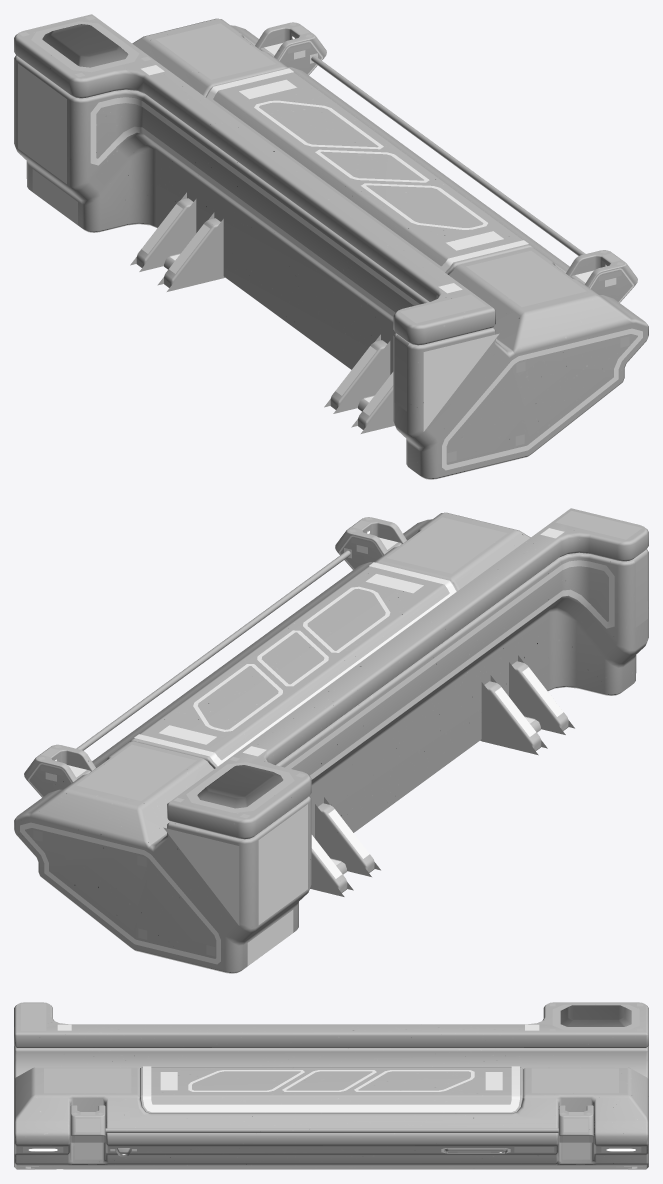
File: SM_RoofConnector_4_Merged.fbx
3 renders of one model, top to bottom at view 1: azimuth 30°, elevation 25°; view 2: azimuth 150°, elevation 25°; view 3: azimuth 270°, elevation 25°, orthographic. The views are drawn at different scales.
Visible parts, largest first — view 1: SM_RoofConnector_4_Merged_LOD0; view 2: SM_RoofConnector_4_Merged_LOD0; view 3: SM_RoofConnector_4_Merged_LOD0.
Part boxes in pixels (box(x1,y1,x2,y2)): SM_RoofConnector_4_Merged_LOD0: box(14, 14, 648, 479); SM_RoofConnector_4_Merged_LOD0: box(14, 508, 648, 973); SM_RoofConnector_4_Merged_LOD0: box(14, 1002, 648, 1169).
Size of the model in its own units: 257 by 684 by 153.
